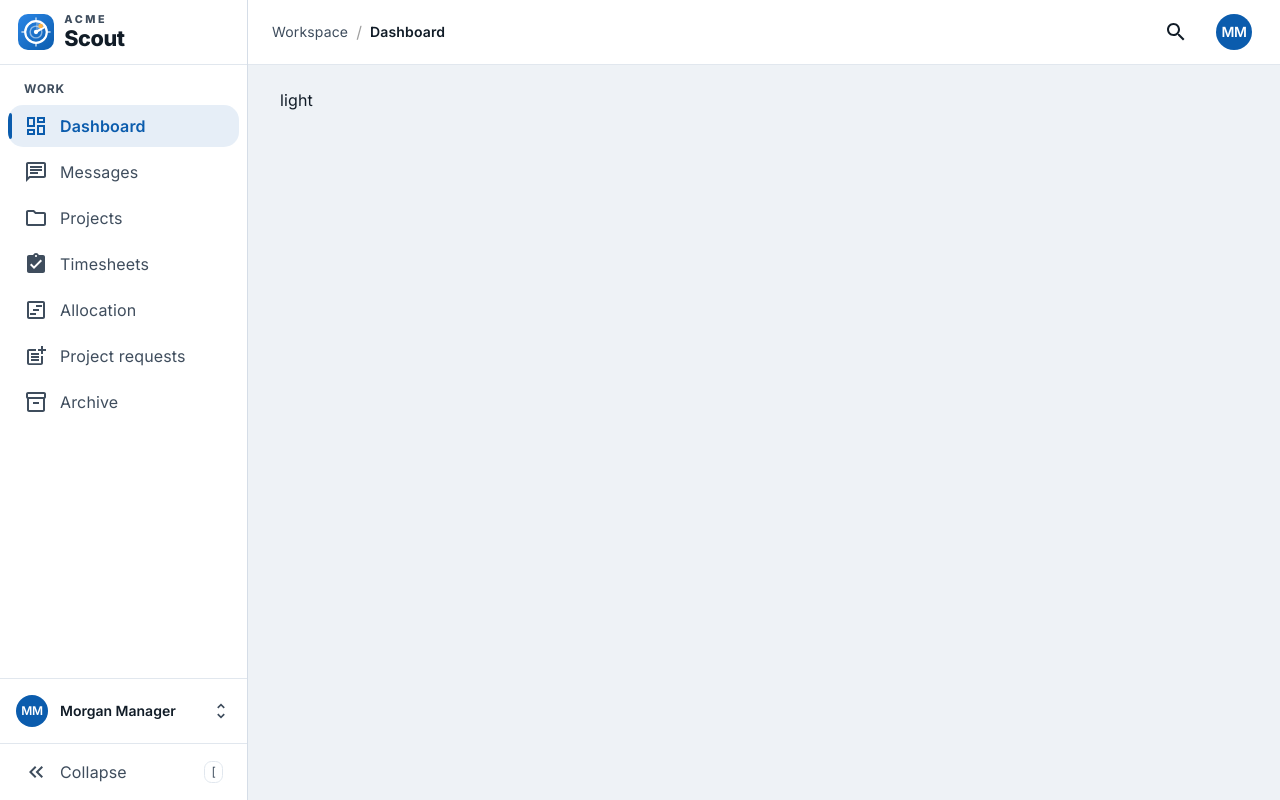
Test: colour theme › picking Dark in the account menu switches the theme and is remembered in this browser
The image size is (1280, 800).
Click the button with aria-label "Account menu" at (1234, 32), box [1212,10,1256,54]
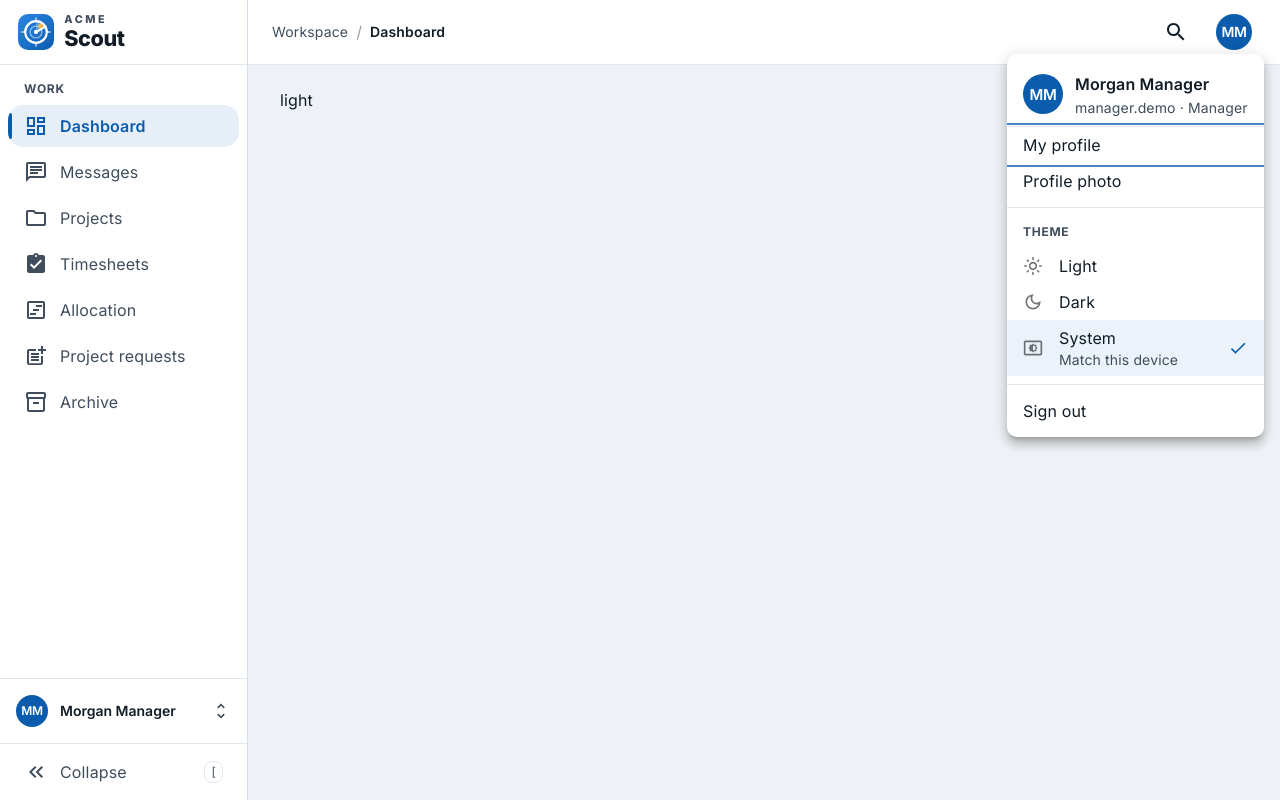
Click the menu item "Dark" at (1059, 302), box [1023,292,1095,312]
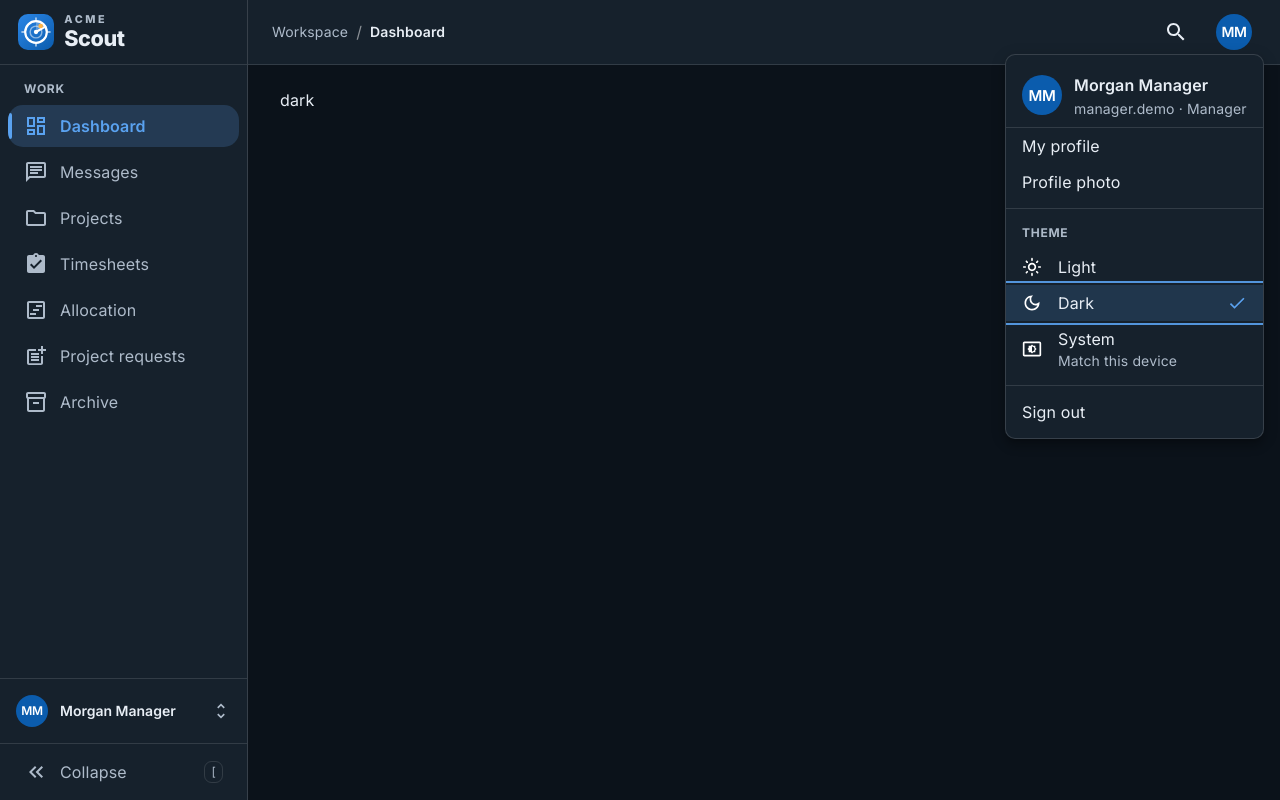
Expected: the text with test id "mode" reads "dark", [280,90,314,110]
Click the menu item "Light" at (1059, 267), box [1022,257,1096,277]
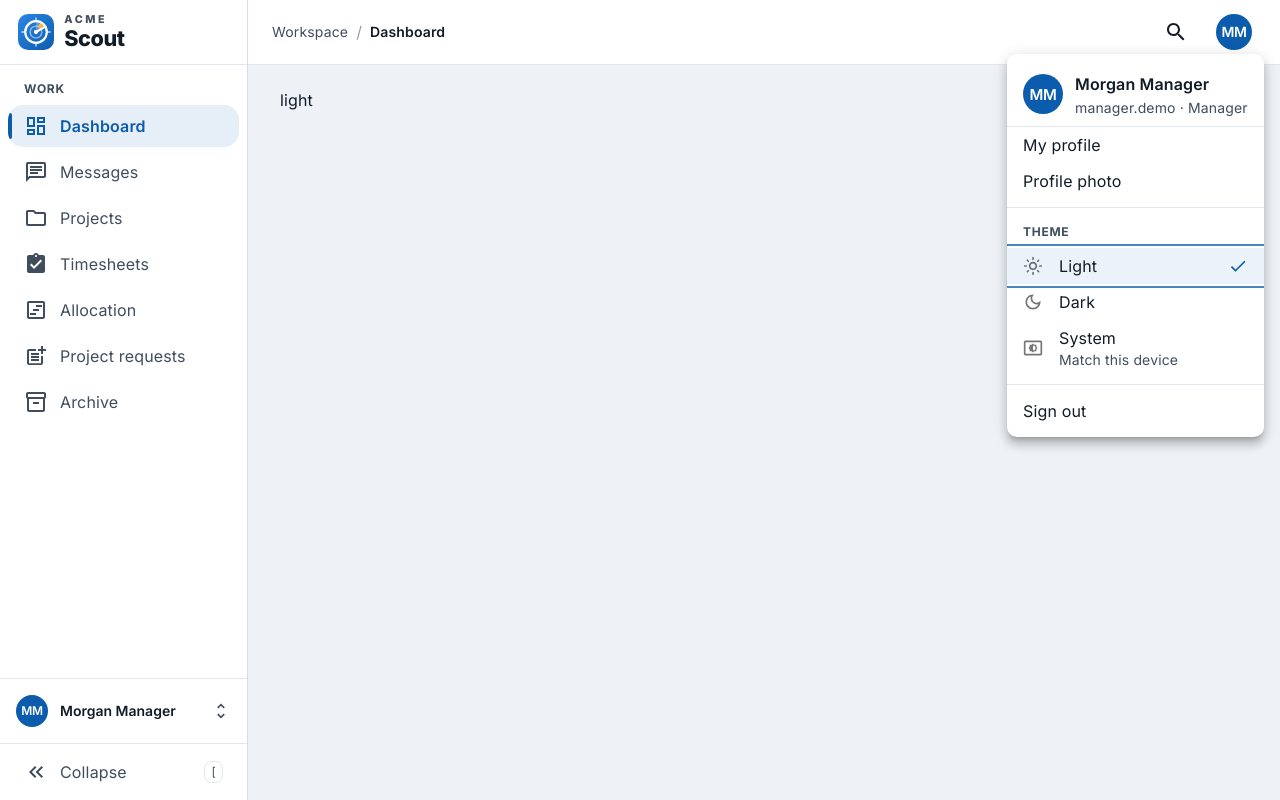
Expected: the text with test id "mode" reads "light", [280,90,313,110]
